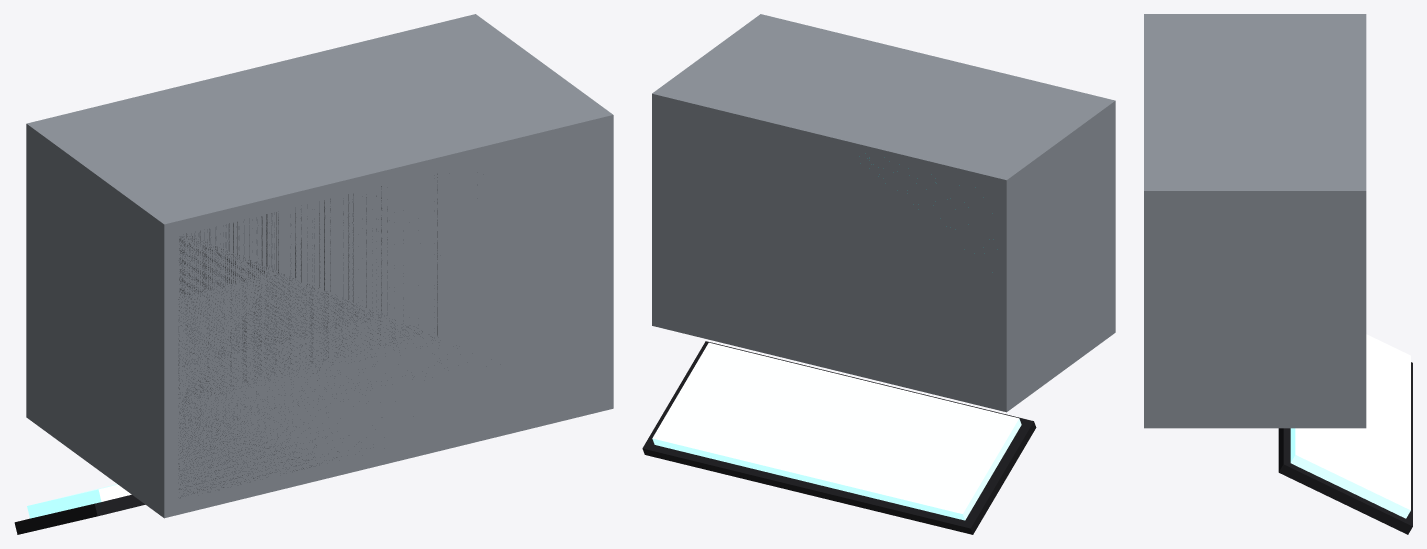
File: Console_Standing.glb
3 views of the same model, side by side, from view 1: azimuth 30°, elevation 25°; view 2: azimuth 150°, elevation 25°; view 3: azimuth 270°, elevation 25° (orthographic). The views are drawn at different scales.
Parts seen in each view (by area): view 1: Console_Standing; view 2: Console_Standing; view 3: Console_Standing.
Boxes of the visible parts, x1,y1,x2,y2 form: Console_Standing: [14, 14, 613, 534]; Console_Standing: [642, 14, 1115, 534]; Console_Standing: [1144, 14, 1412, 534].
Bounding box in the file's own units: 1.6 × 1.48 × 1.03.
